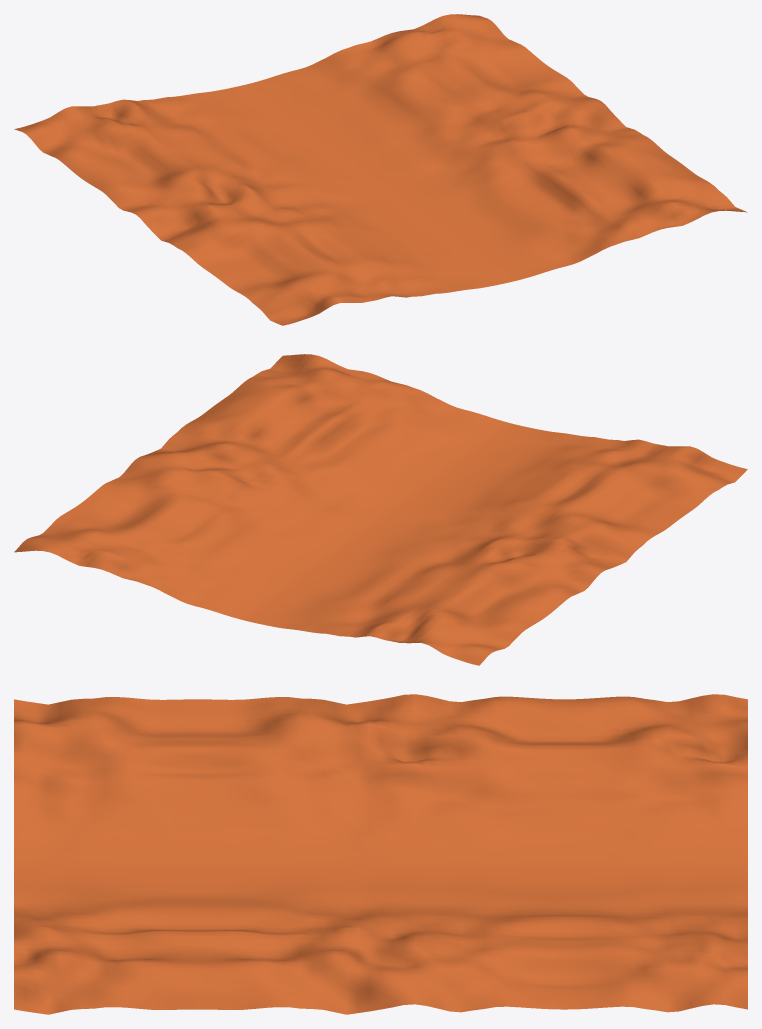
Rendered from GroundTile_1.fbx.
3 renders of one model, top to bottom at view 1: azimuth 30°, elevation 25°; view 2: azimuth 150°, elevation 25°; view 3: azimuth 270°, elevation 25°, orthographic. The views are drawn at different scales.
Parts seen in each view (by area): view 1: GroundTile_1; view 2: GroundTile_1; view 3: GroundTile_1.
Part boxes in pixels (<box>): GroundTile_1: <box>14,14,747,325</box>; GroundTile_1: <box>14,354,747,665</box>; GroundTile_1: <box>14,694,747,1014</box>.
Bounding box in the file's own units: 200 × 9.38 × 200.
